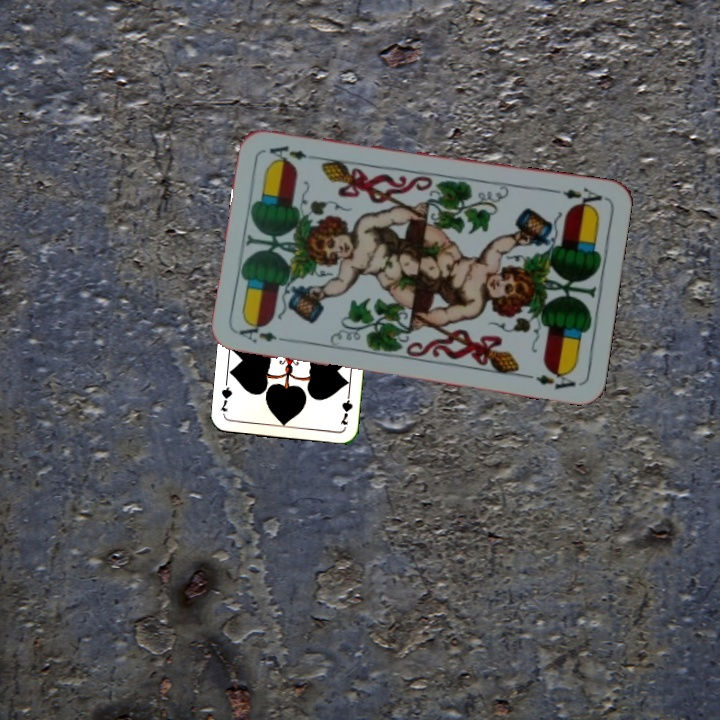EA: (548, 183, 605, 211), (235, 321, 293, 346)
G7: (336, 387, 355, 427)
